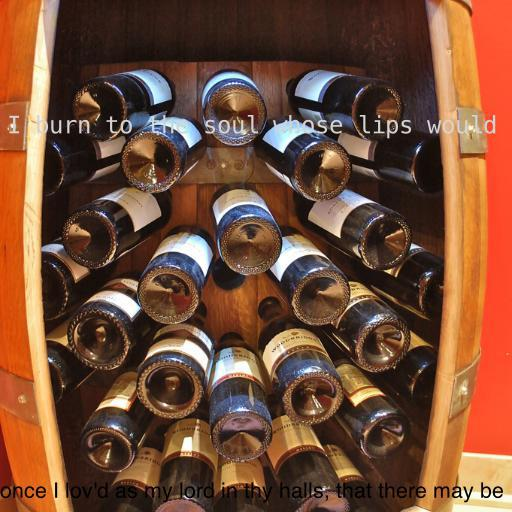Apple Chancery: (0, 482, 504, 503)
Menlo: (0, 115, 512, 139)
